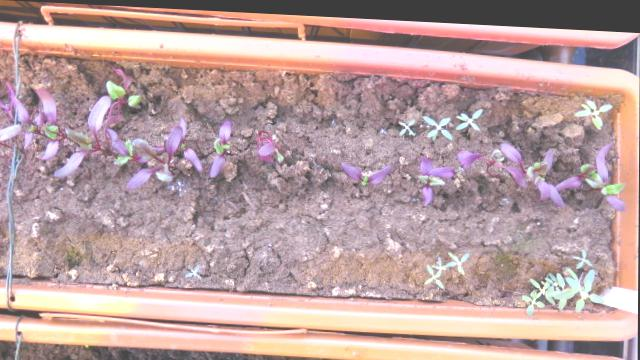weed: (566, 90, 614, 126), (451, 99, 485, 127), (390, 111, 416, 134)
